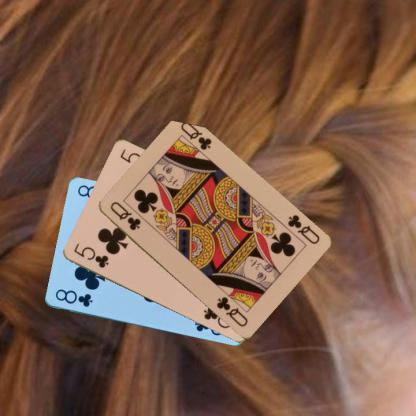5c: (70, 240, 110, 270)
8c: (52, 286, 94, 308)
Qc: (284, 212, 321, 246), (107, 198, 141, 232)
